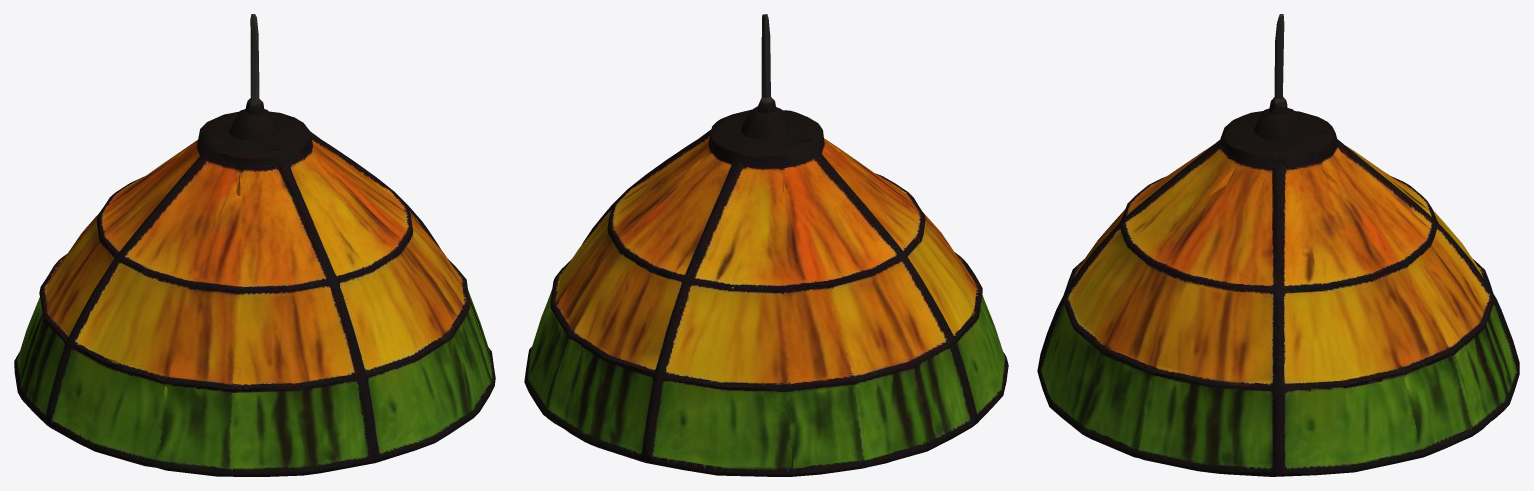
The model's file is lamp.glb.
3 renders of one model, left to right at view 1: azimuth 30°, elevation 25°; view 2: azimuth 150°, elevation 25°; view 3: azimuth 270°, elevation 25°, orthographic.
Visible parts, largest first — view 1: lamp; view 2: lamp; view 3: lamp.
Boxes of the visible parts, x1,y1,x2,y2 form: lamp: [14, 14, 495, 476]; lamp: [524, 14, 1008, 476]; lamp: [1037, 14, 1519, 476].
Bounding box in the file's own units: 0.434 × 0.36 × 0.4338.
1 material, 1 textured.
